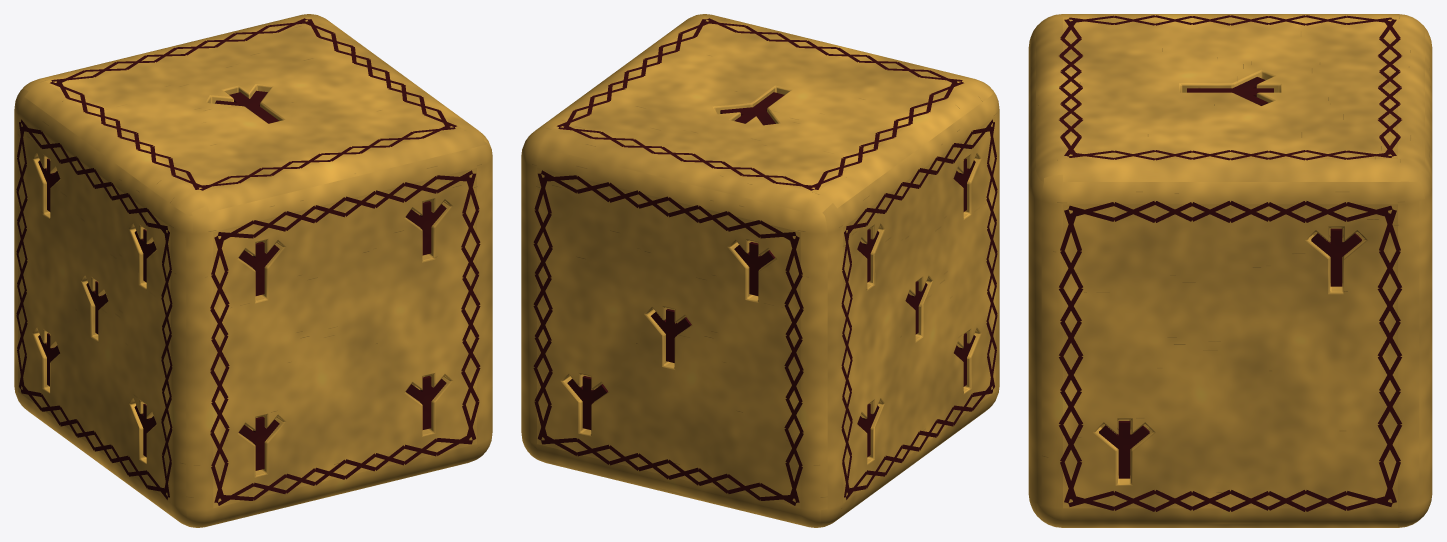
The model's file is norse-runes.glb.
3 views of the same model, side by side, from view 1: azimuth 30°, elevation 25°; view 2: azimuth 150°, elevation 25°; view 3: azimuth 270°, elevation 25° (orthographic). The views are drawn at different scales.
Visible parts, largest first — view 1: MM_Die_norse-runes; view 2: MM_Die_norse-runes; view 3: MM_Die_norse-runes.
Part boxes in pixels (bbox=[...]): MM_Die_norse-runes: bbox=[14, 14, 492, 527]; MM_Die_norse-runes: bbox=[521, 14, 999, 527]; MM_Die_norse-runes: bbox=[1028, 14, 1432, 527].
Bounding box in the file's own units: 0.0295 × 0.0295 × 0.0295.
Materials: 2 (2 with a texture image).
